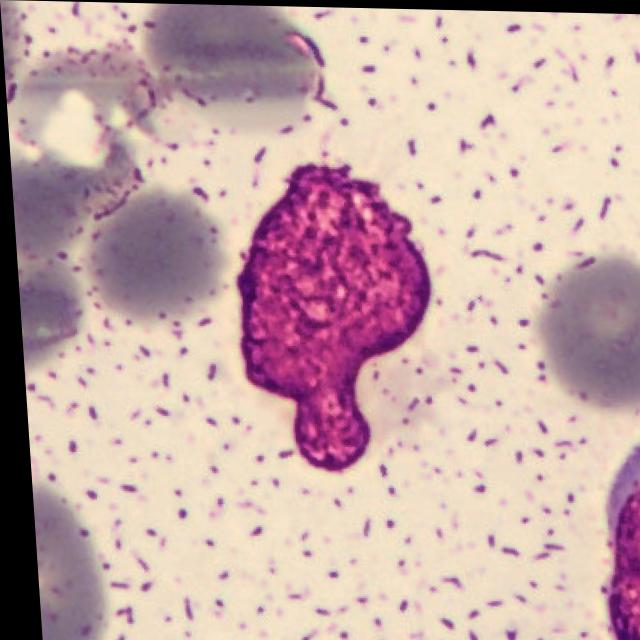Restos celulares: (232, 160, 429, 469)
